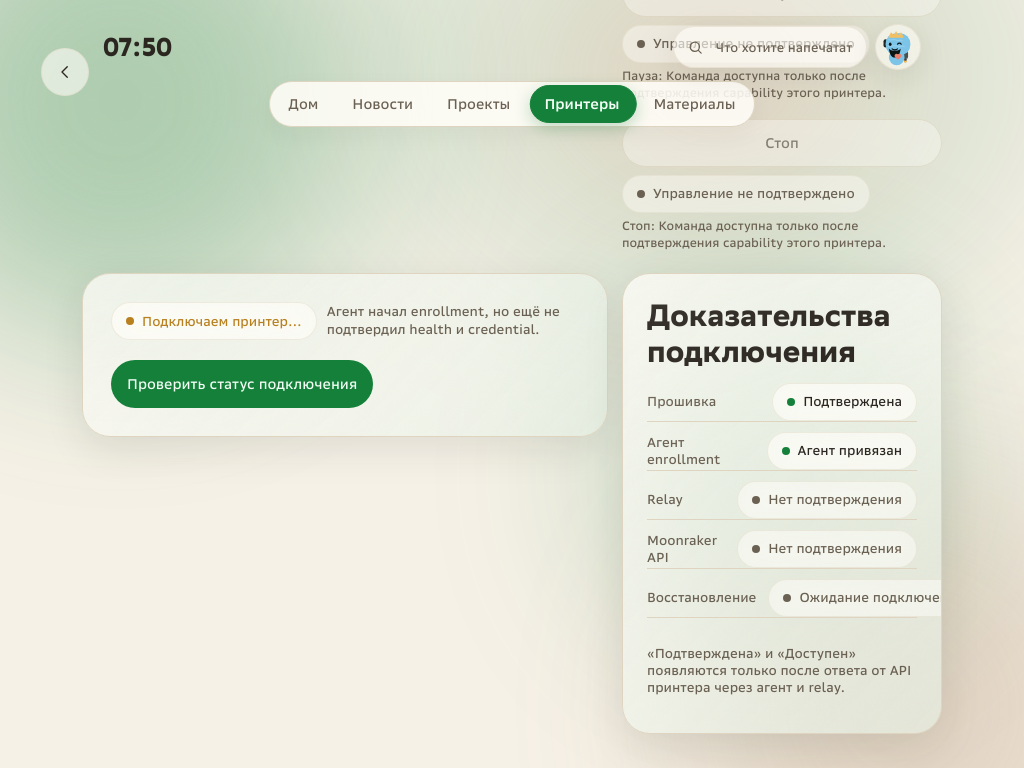
Test: MF-1665: матрица шести состояний подключения › enrolling: перечитывает нормализованный факт без создания команды
(page scrolled)
Click the button "Проверить статус подключения" at coordinates (242, 384), box [111,360,373,408]
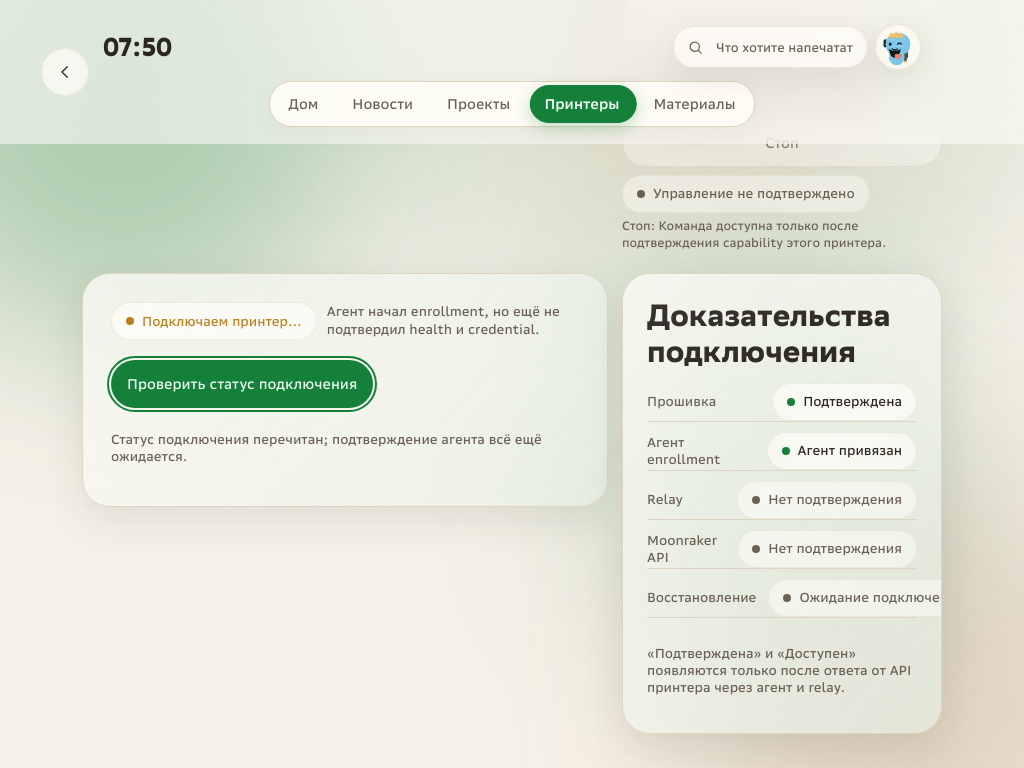
Expected: the text "Статус подключения перечитан; подтверждение агента всё ещё ожидается." is shown, [111,431,579,465]
